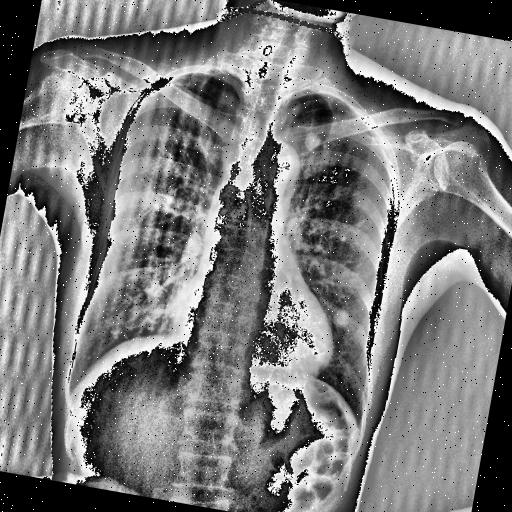2- Calcification: (316, 288, 362, 332), (292, 126, 330, 160), (298, 128, 332, 156)
7- Lung Opacity: (209, 176, 251, 219)
8- Nodule-Mass: (298, 128, 325, 154)
